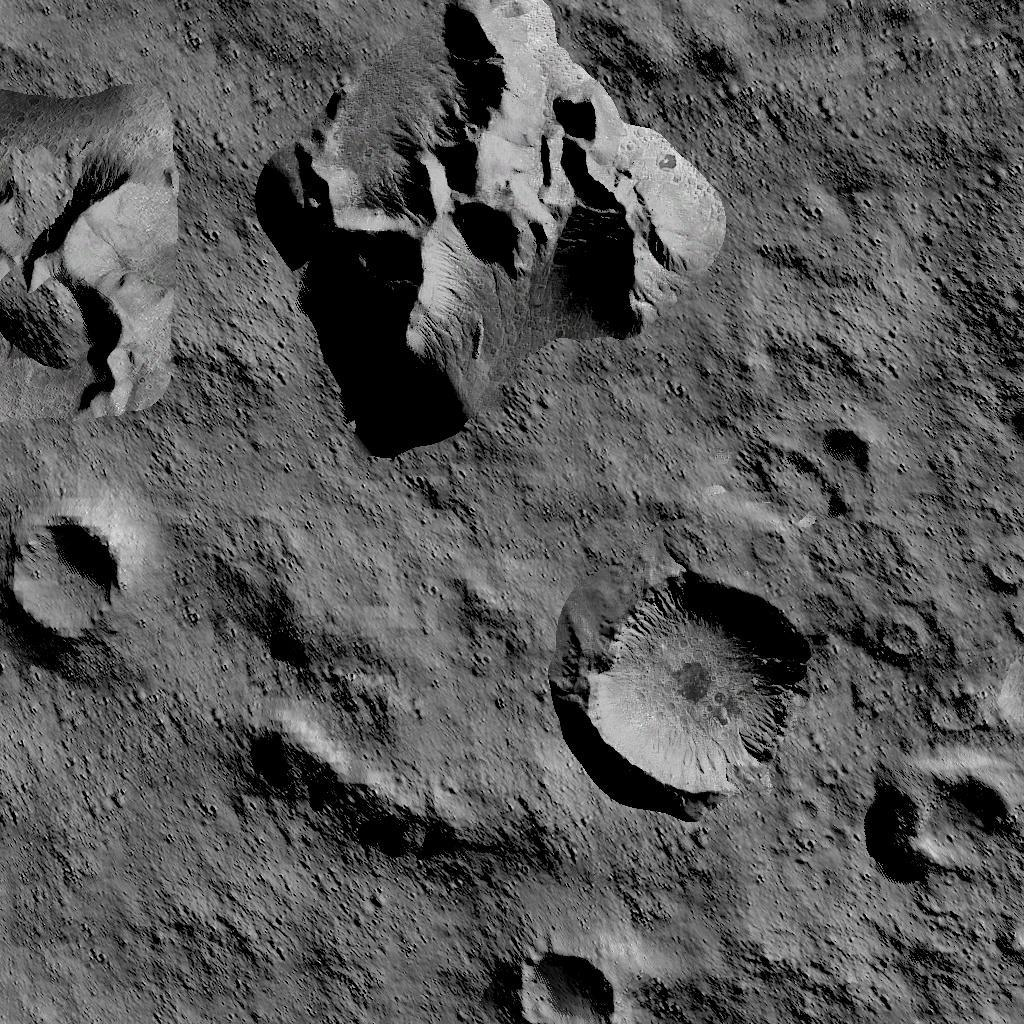Boulders: (261, 0, 725, 458), (0, 98, 181, 438), (248, 715, 566, 878)
Crater: (581, 568, 810, 806), (856, 750, 1024, 878), (16, 515, 136, 648), (511, 942, 623, 1024)
Plan surface: (741, 0, 1024, 395), (0, 665, 238, 1024), (250, 888, 500, 1024)
